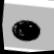correct: (10, 16, 44, 47)
